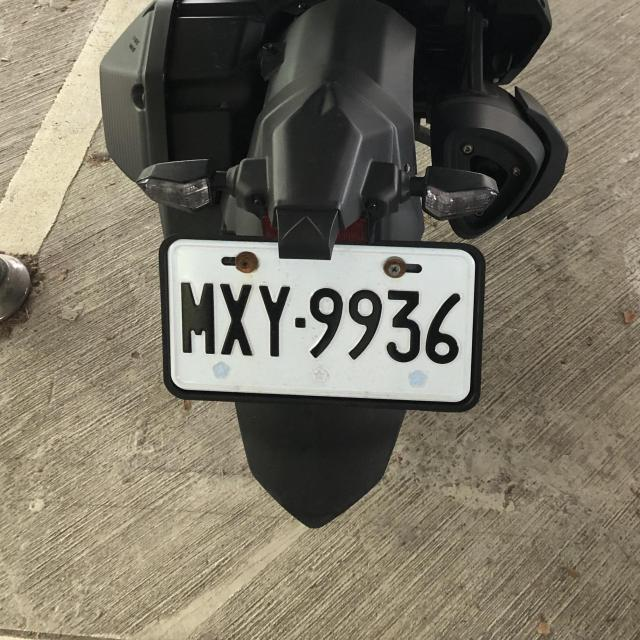W: (161, 241, 484, 404)
